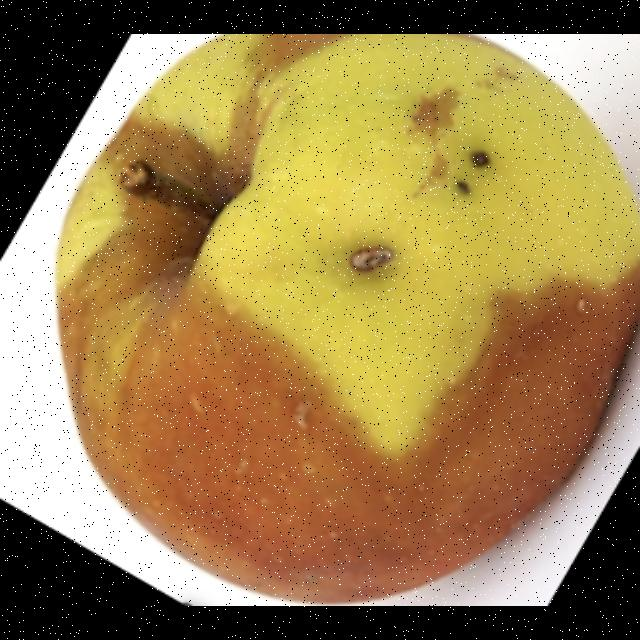Apel Tidak Segar: (24, 34, 640, 598)
